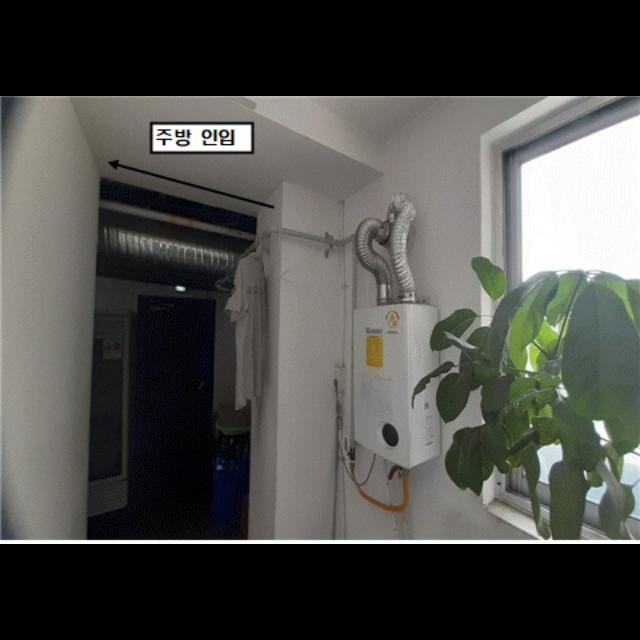Boiler: (328, 296, 448, 472)
